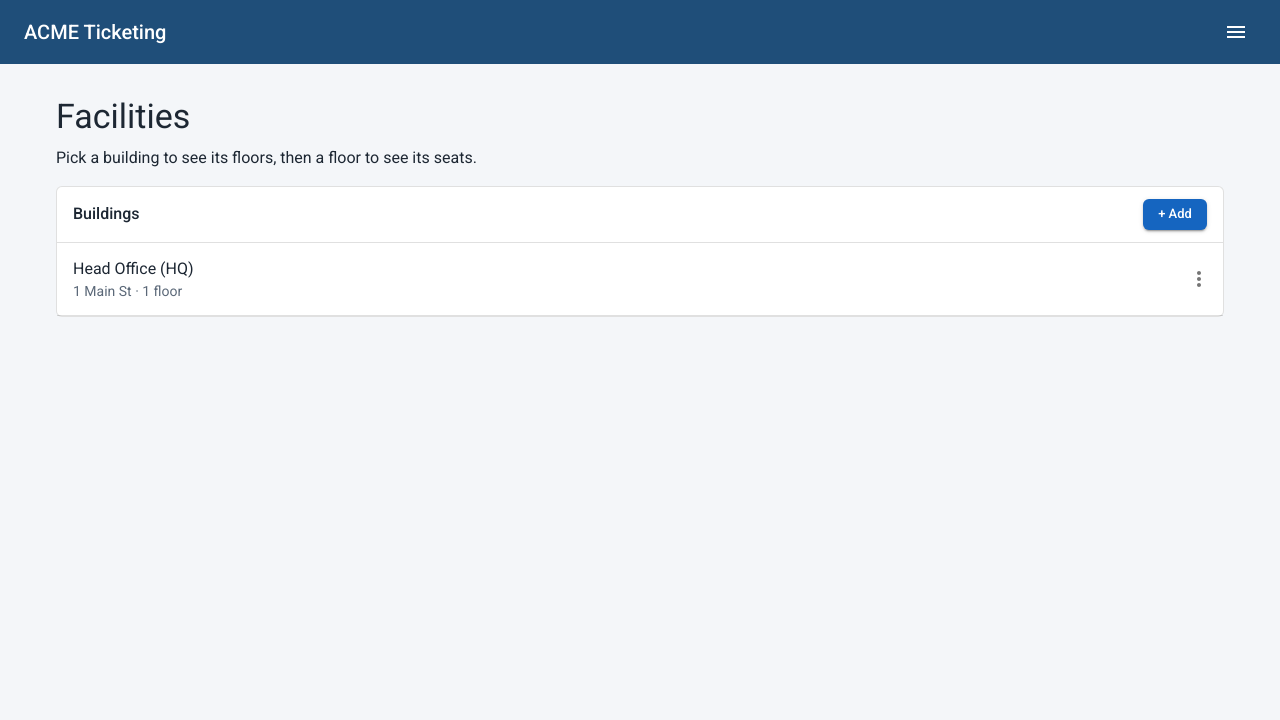
it: Facilities on a phone › puts Edit and Delete in a ⋮ menu on each row
The image size is (1280, 720).
Expected: the text "Head Office (HQ)" is shown, [73, 259, 194, 278]
Expected: the button "Edit" is not shown
Click the button named "More actions". click: click(1199, 279)
box: [1179, 259, 1219, 299]
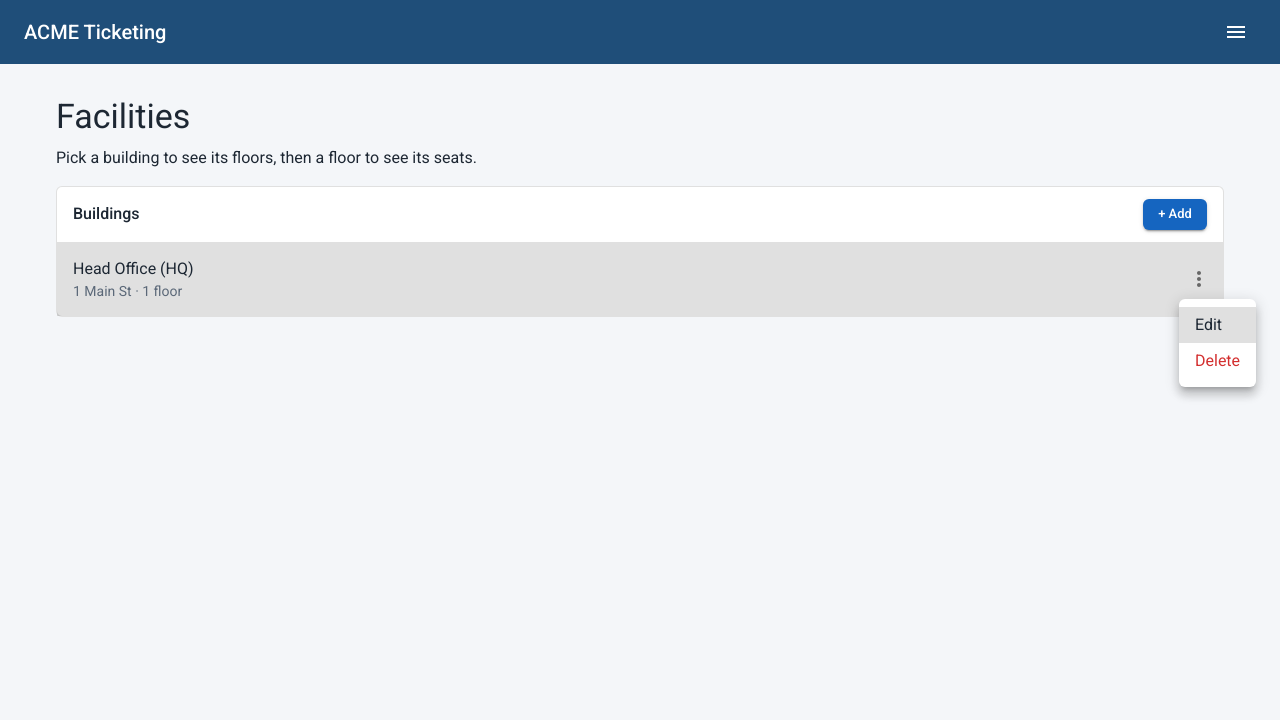
Click the menu item "Delete". click: click(1218, 360)
box: [1195, 351, 1240, 370]
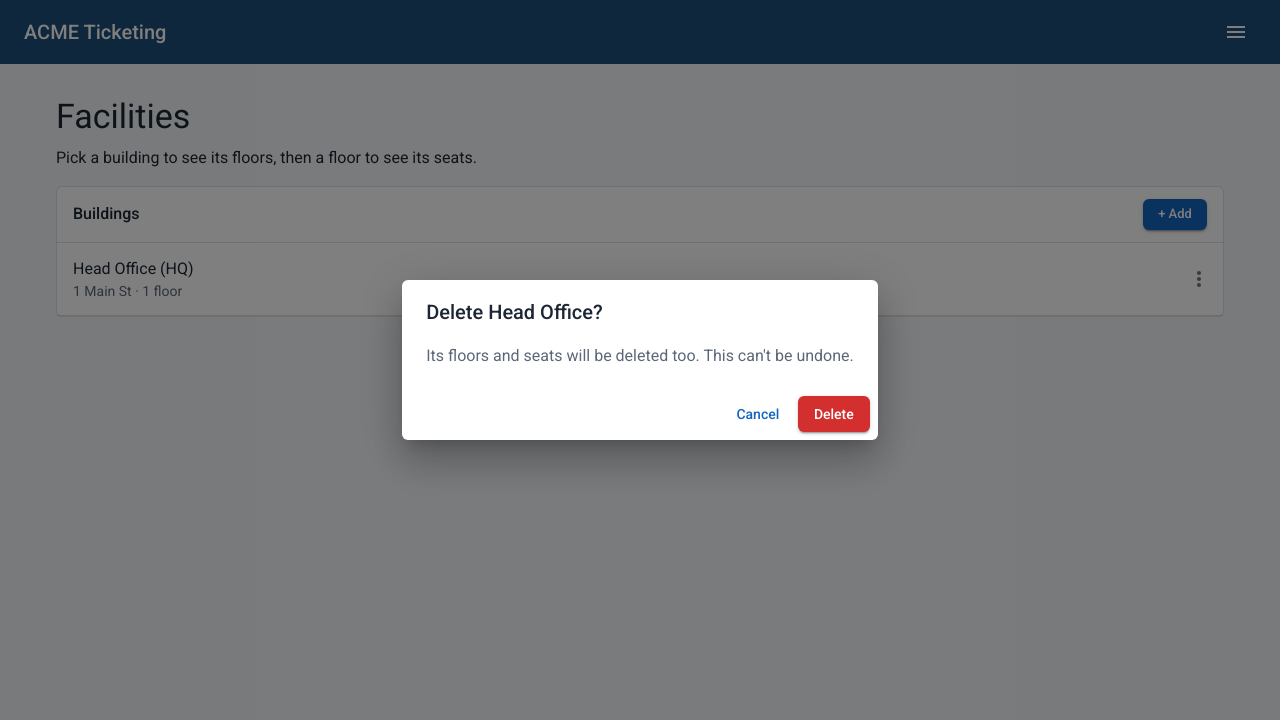
Expected: the dialog "Delete Head Office?" is shown, [402, 280, 878, 440]
